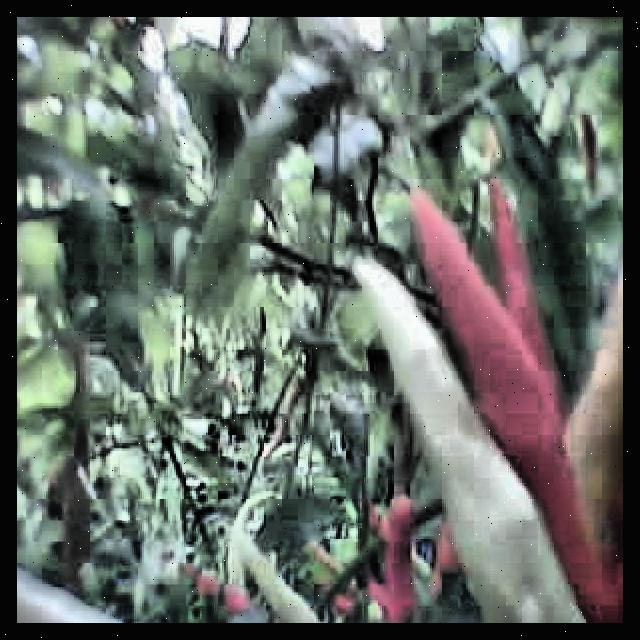Cabai: (421, 201, 549, 317), (358, 496, 429, 623), (182, 564, 237, 608)
